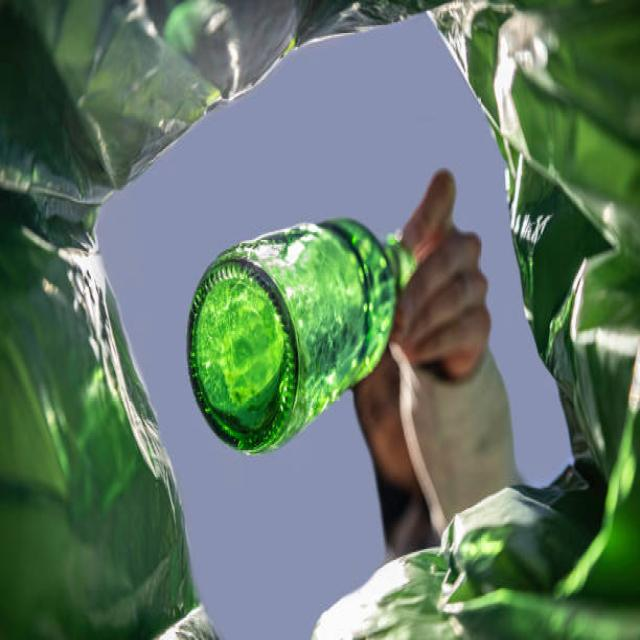glass: (190, 208, 410, 446)
